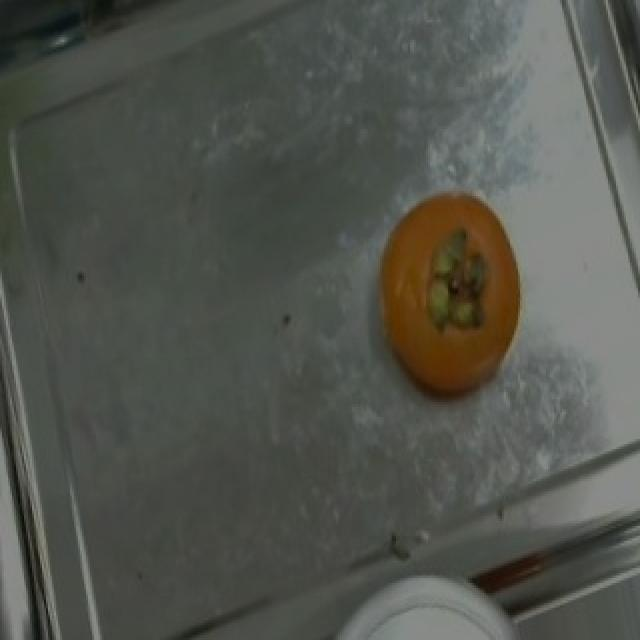Fruit: (352, 174, 548, 412), (328, 593, 528, 640)
